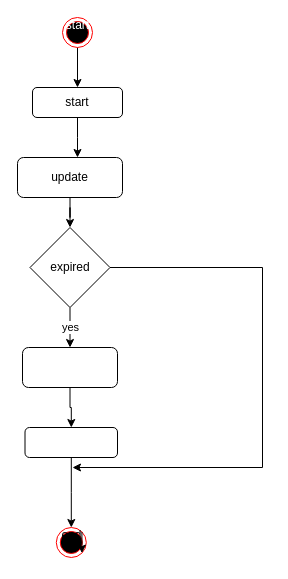
Some shapes in this 288 by 579 pixel diagram are drawn without their labels. Each missing label, with the centre of its shape:
"expire" belongs at pixel 70 367.
"rollback" belongs at pixel 71 442.
